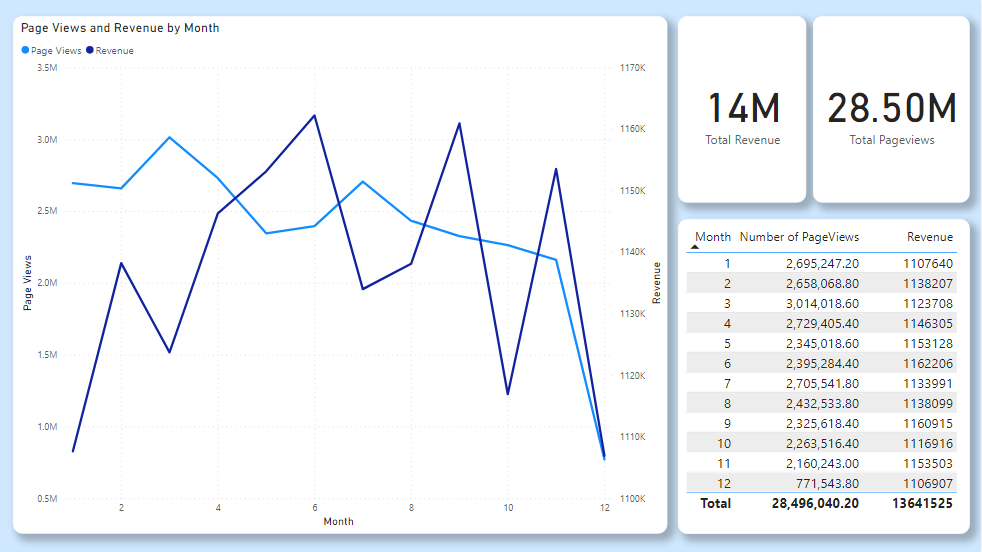

The page's visual inventory and layout, read from the dashboard file:
{"tool":"powerbi","page":{"name":"Page 1","canvas":[1280,720],"ordinal":0},"visuals":[{"type":"lineChart","fields":{"Category":["Traffic2.Month"],"Y":["Sum(Traffic2.pageviews)"],"Y2":["Sum(Revenue.Revenue)"]},"box":[19.2,22.1,852.4,673.9],"z":0},{"type":"tableEx","fields":{"Values":["Traffic2.Month","Sum(Traffic2.pageviews)","Sum(Revenue.Revenue)"]},"box":[884.8,286.1,380.5,410],"z":1},{"type":"card","fields":{"Values":["Sum(Revenue.Revenue)"]},"box":[884.8,22.1,166.6,243.3],"z":3},{"type":"card","fields":{"Values":["Sum(Traffic2.pageviews)"]},"box":[1061.8,22.1,203.5,243.3],"z":4}]}

Visuals, with their boxes in screenshot pixels (x1, y1, x2, y2), scaled from the page's 1280x720 canvas onto the 982x552 screenshot:
lineChart - Traffic2.Month x Sum(Traffic2.pageviews): 15,17,669,534
tableEx - Traffic2.Month x Sum(Traffic2.pageviews): 679,219,971,534
card - Sum(Revenue.Revenue): 679,17,807,203
card - Sum(Traffic2.pageviews): 815,17,971,203
